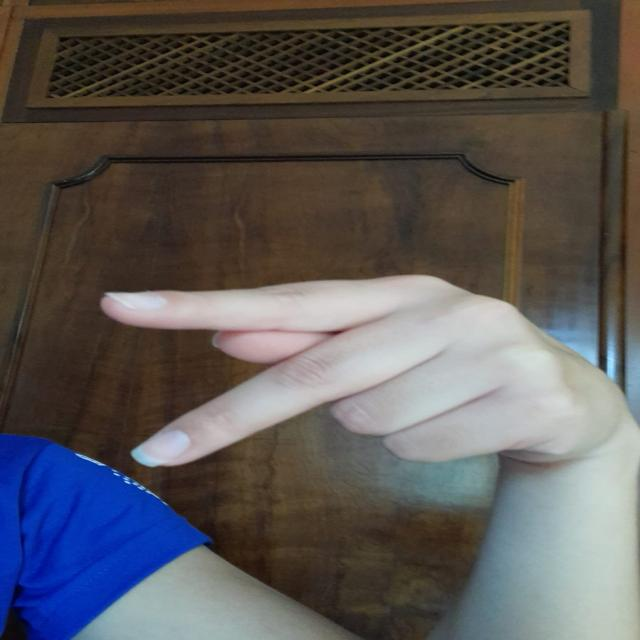P: (86, 252, 637, 478)
